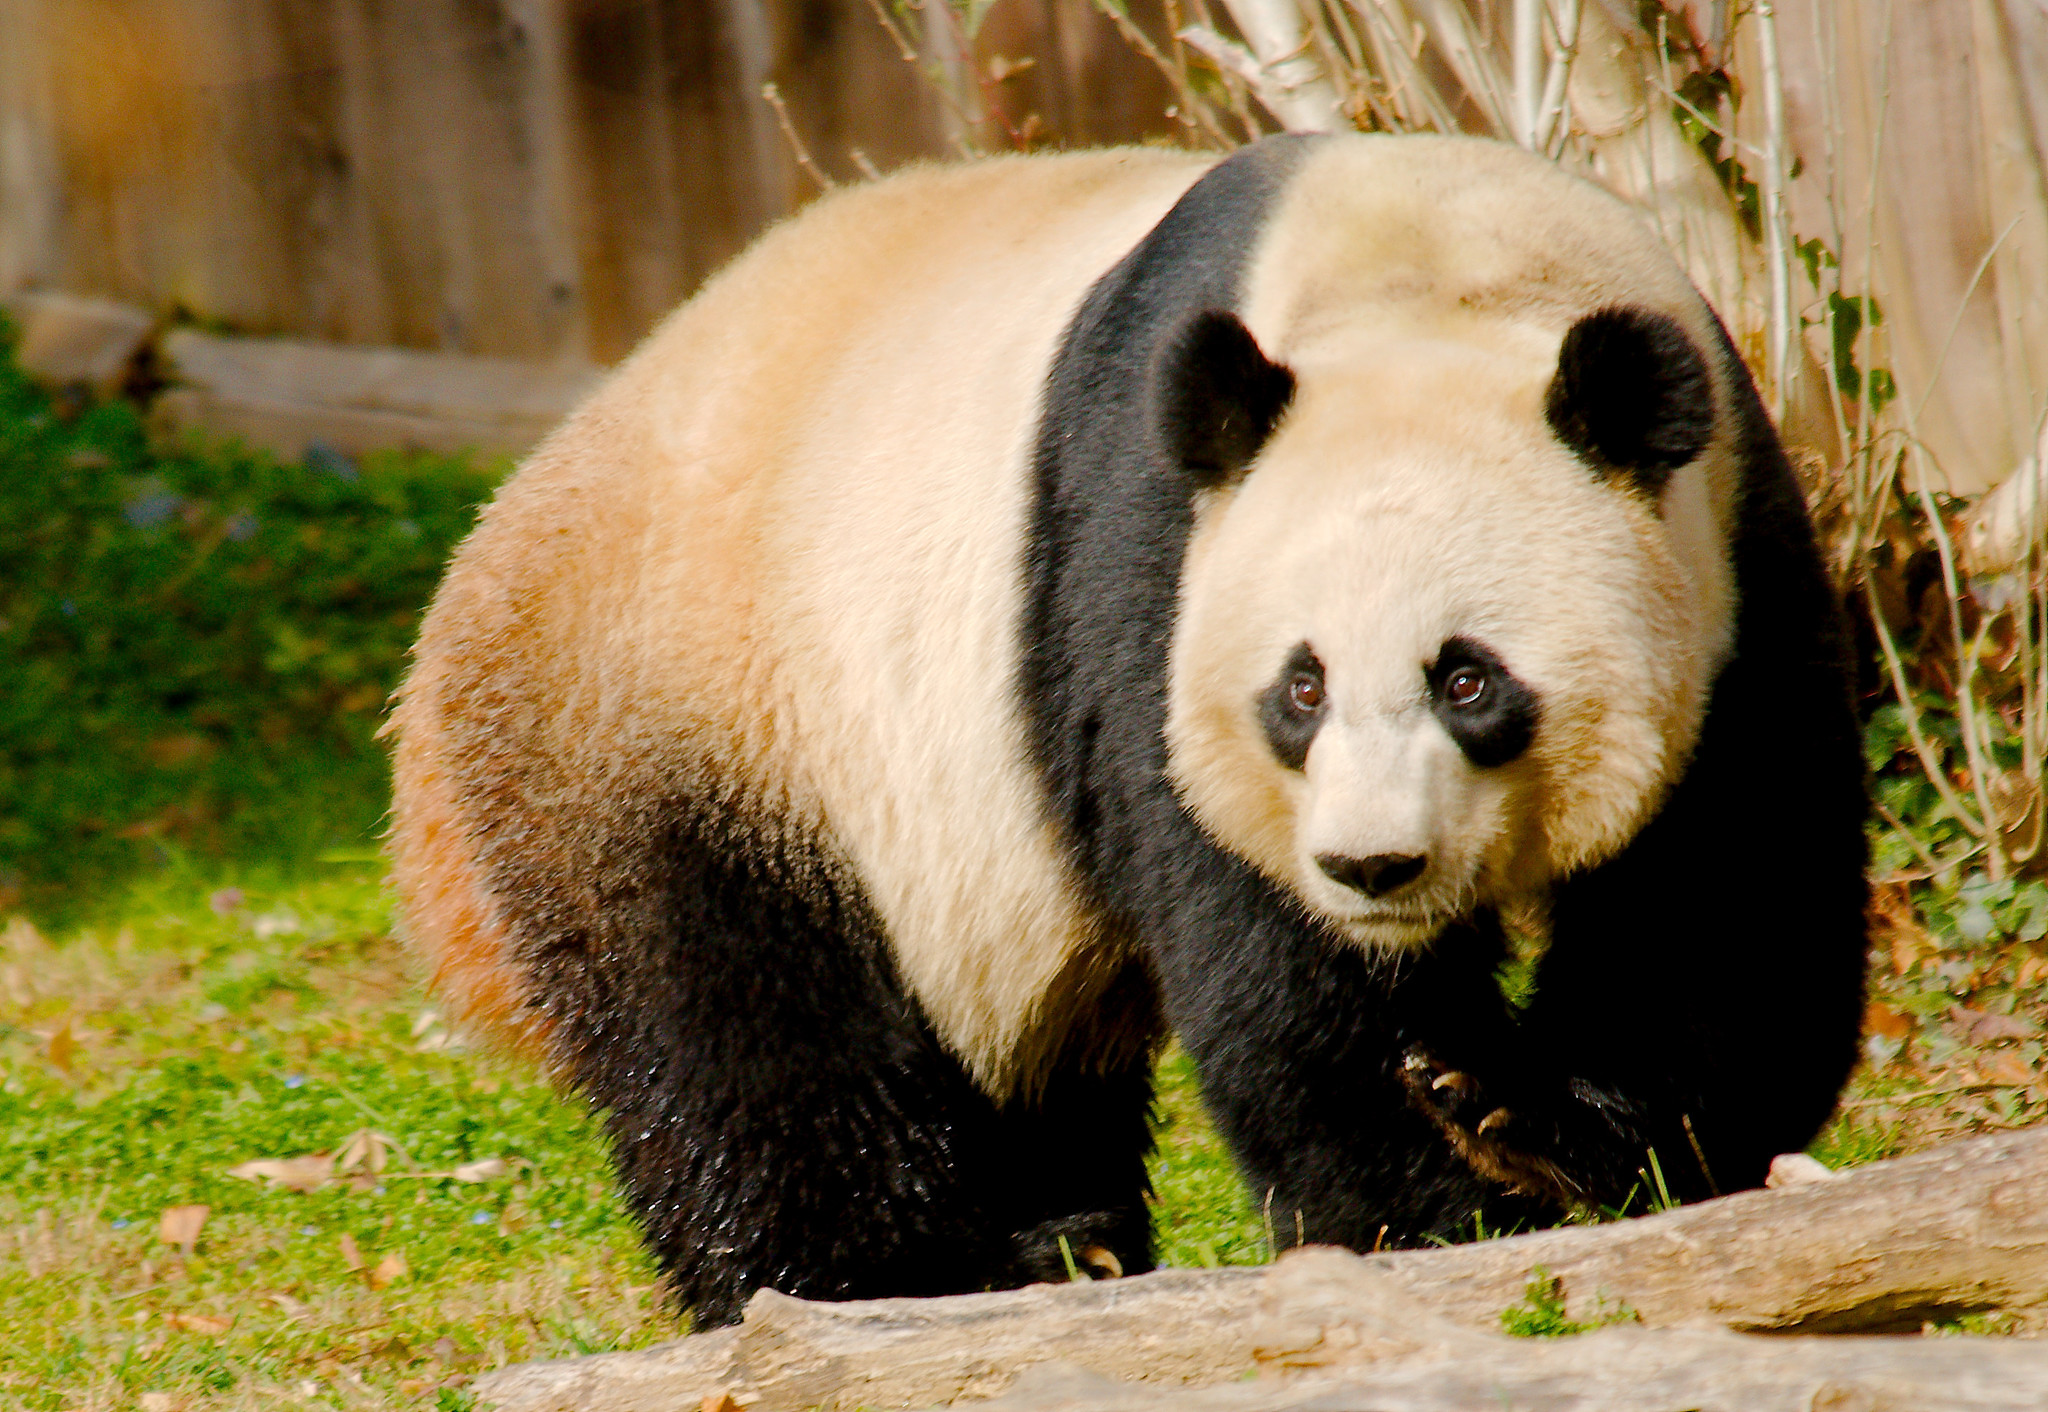Giant panda: (1144, 300, 1727, 953)
